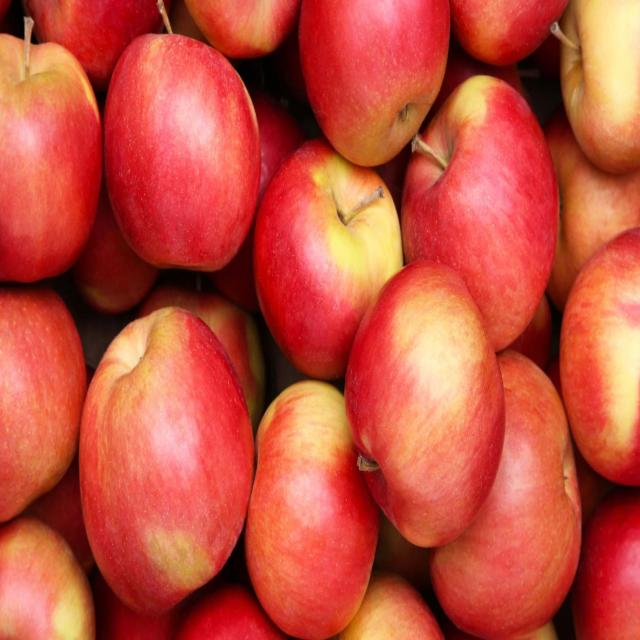manzana: (98, 24, 262, 275)
